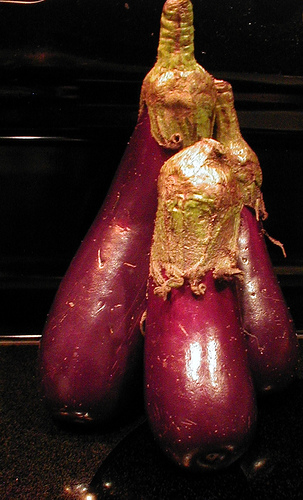eggplant: (25, 1, 230, 397), (144, 133, 255, 396)
